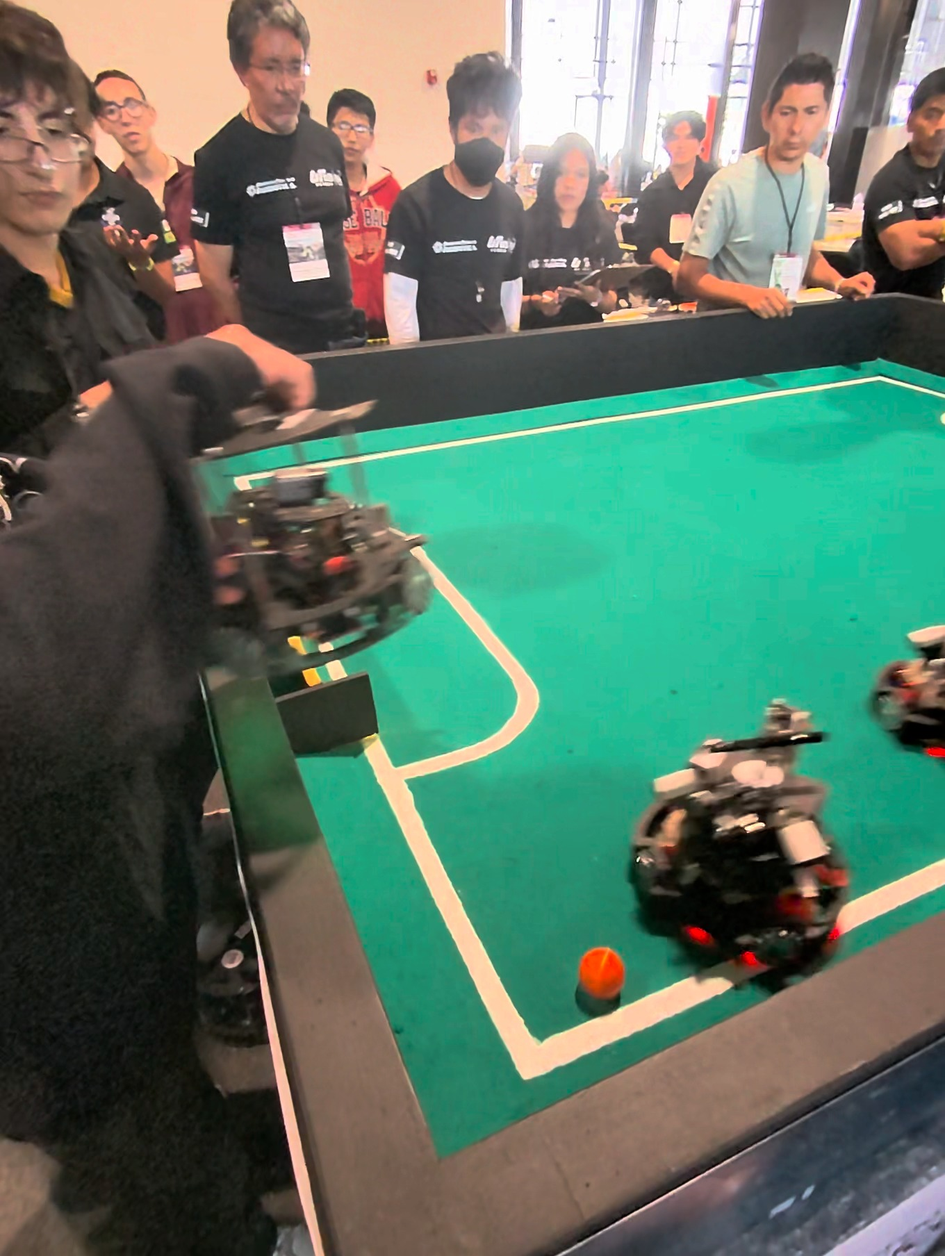Robot: (621, 705, 856, 1006), (871, 573, 945, 778)
pelota: (576, 948, 624, 1010)
